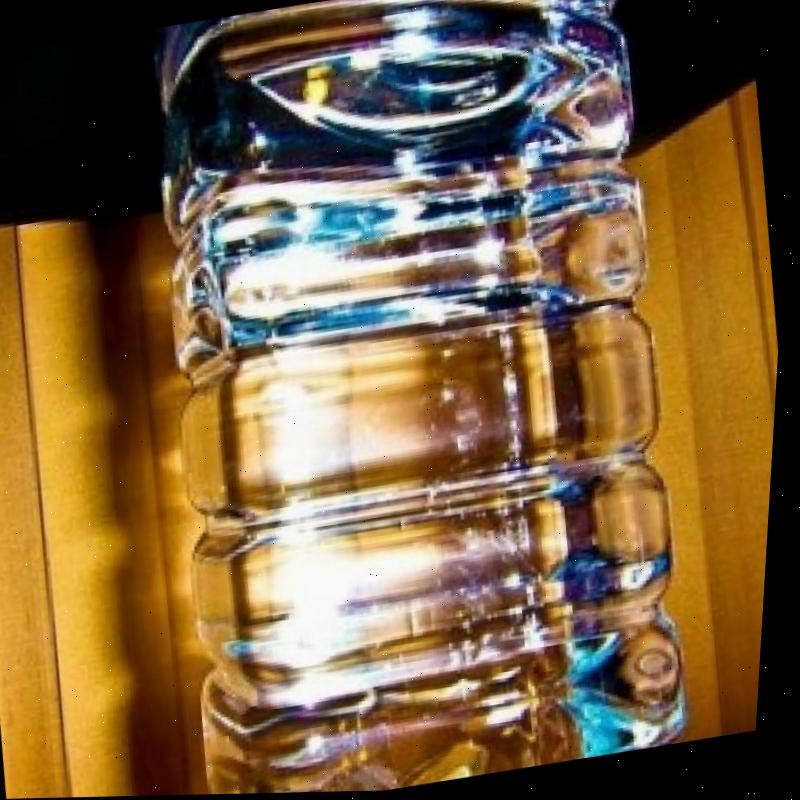botella: (109, 0, 738, 797)
